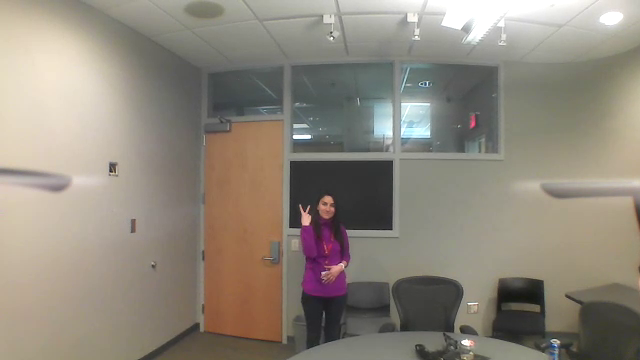peace: (294, 198, 314, 229)
